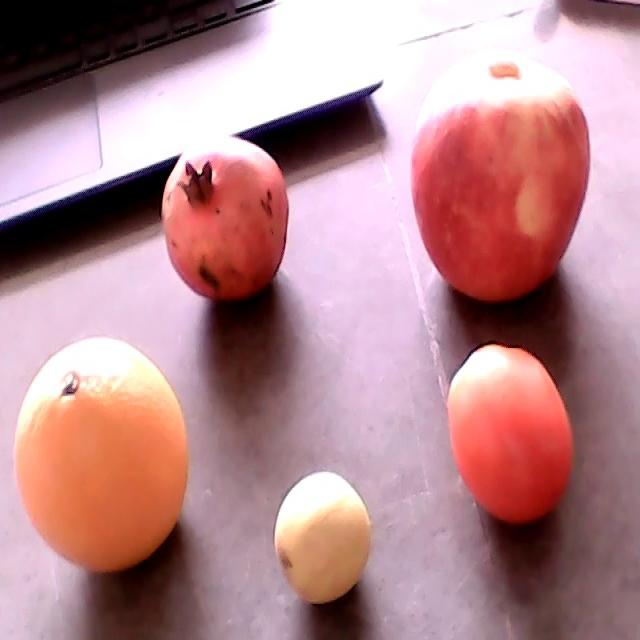apple: (409, 49, 593, 304)
lemon: (275, 469, 371, 603)
orange: (12, 335, 190, 570)
pomegranate: (162, 135, 291, 299)
tomato: (445, 341, 574, 522)
